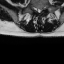CCS_severe_stenosis: (38, 5, 40, 15)
LFS_normal: (42, 5, 44, 13)
LLS_normal: (40, 6, 42, 13)
RFS_normal: (34, 5, 36, 12)
RLS_normal: (36, 6, 38, 13)
